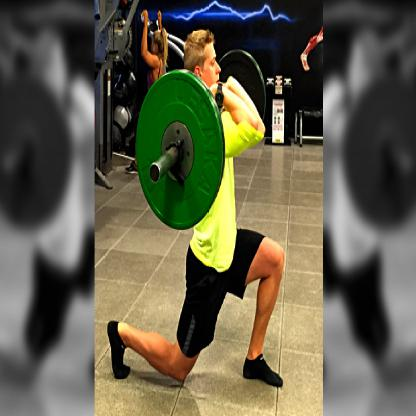Barbell: (130, 63, 228, 236)
